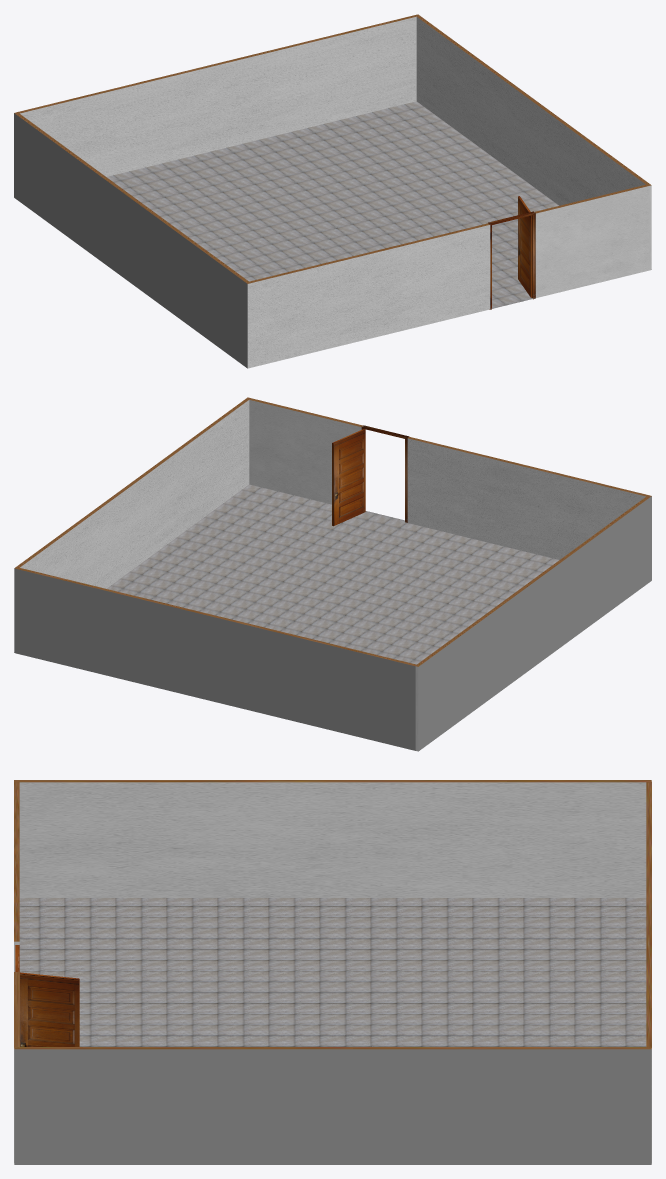
Rendered from School.fbx.
3 views of the same model, one above another, from view 1: azimuth 30°, elevation 25°; view 2: azimuth 150°, elevation 25°; view 3: azimuth 270°, elevation 25° (orthographic). The views are drawn at different scales.
Parts seen in each view (by area): view 1: pPlane1, pCube3, pCube5, pCube2, pCube4, pCube6, pasted__pasted__pasted__InteriorDoor1, InteriorDoorProfile; view 2: pPlane1, pCube3, pCube2, pCube5, pCube4, pCube6, pasted__pasted__pasted__InteriorDoor1; view 3: pPlane1, pCube4, pCube2, pasted__pasted__pasted__InteriorDoor1, pCube3, pCube5, pCube6.
Part boxes in pixels (x1,y1,x2,y2): pPlane1: (106, 101, 558, 309); pCube3: (17, 15, 417, 176); pCube5: (247, 223, 490, 368); pCube2: (14, 112, 250, 368); pCube4: (416, 14, 651, 270); pCube6: (534, 184, 649, 297); pasted__pasted__pasted__InteriorDoor1: (518, 196, 532, 297); InteriorDoorProfile: (488, 211, 535, 309); pPlane1: (107, 484, 559, 664); pCube3: (16, 568, 416, 750); pCube2: (415, 495, 651, 751); pCube5: (407, 437, 649, 559); pCube4: (14, 397, 250, 653); pCube6: (249, 398, 363, 504); pasted__pasted__pasted__InteriorDoor1: (332, 429, 365, 526); pPlane1: (19, 898, 646, 1046); pCube4: (14, 1047, 651, 1164); pCube2: (14, 780, 651, 897); pasted__pasted__pasted__InteriorDoor1: (20, 972, 79, 1046); pCube3: (646, 782, 651, 1163); pCube5: (14, 780, 19, 971); pCube6: (14, 972, 19, 1162).
Size of the model in its own units: 5 by 1.02 by 5.
Materials: 6 (5 with a texture image).
